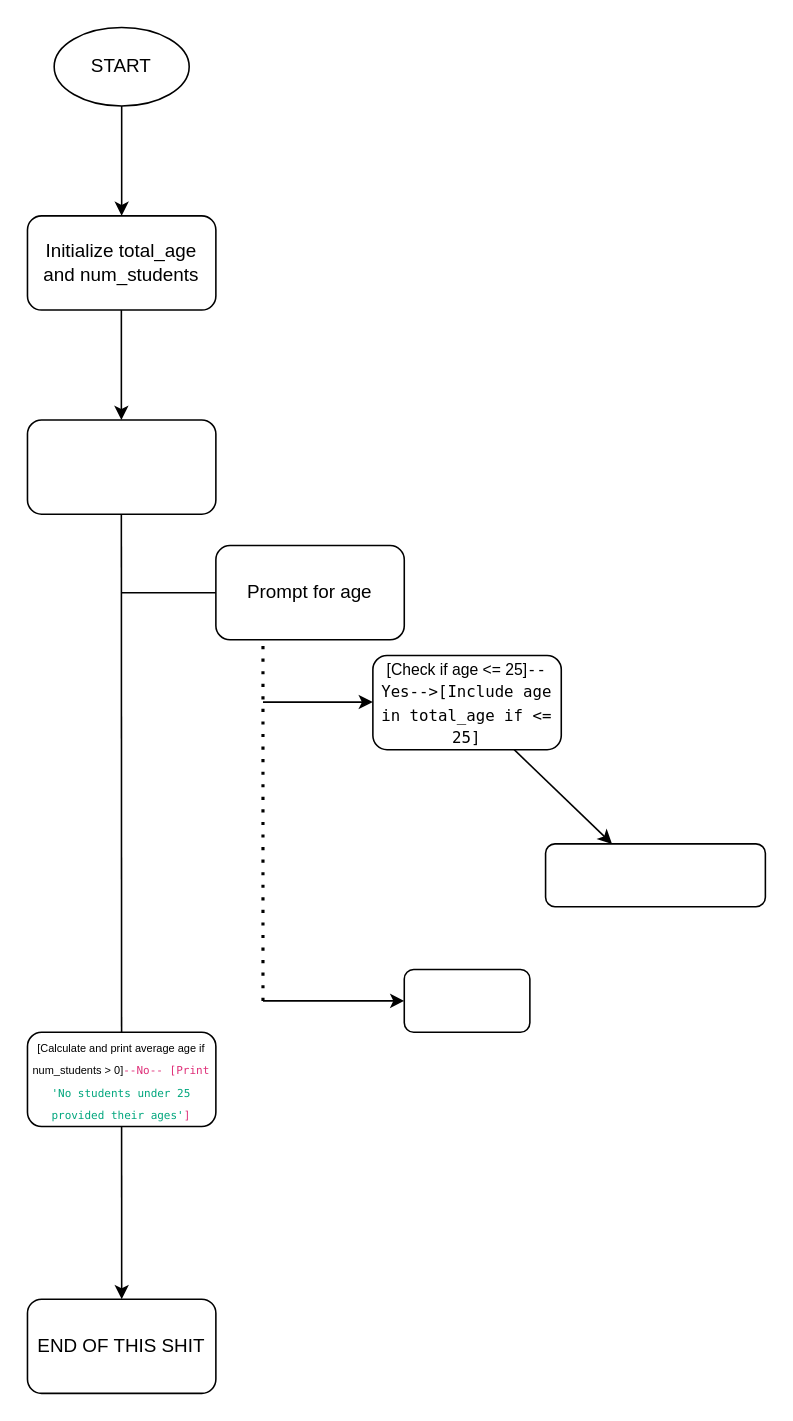
Image size: 793x1421. Some labels were removed from this diagram. The shapes that lost their labels are listed below. From the top down, each one's box as (x1, y1, x2, y2) in pixels, then its label:
(26, 418, 216, 514): Loop for 10 students
(544, 842, 765, 907): Increment num_students if age <= 25
(403, 968, 530, 1032): Check if age <= 25
